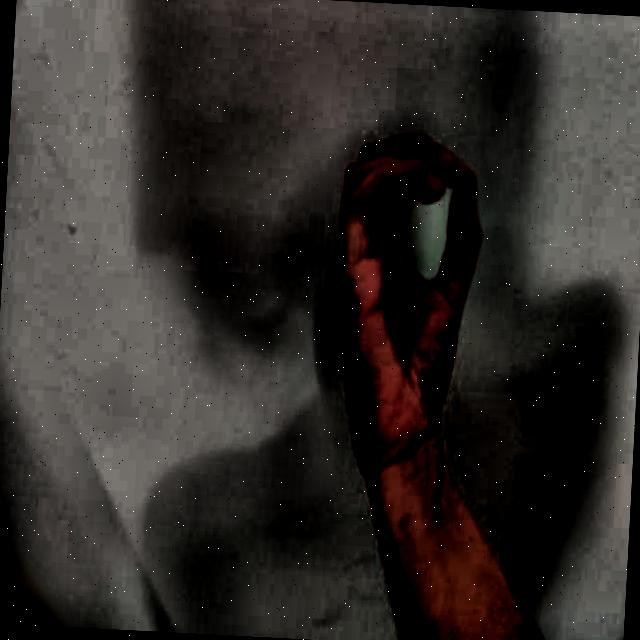O: (296, 110, 520, 476)
